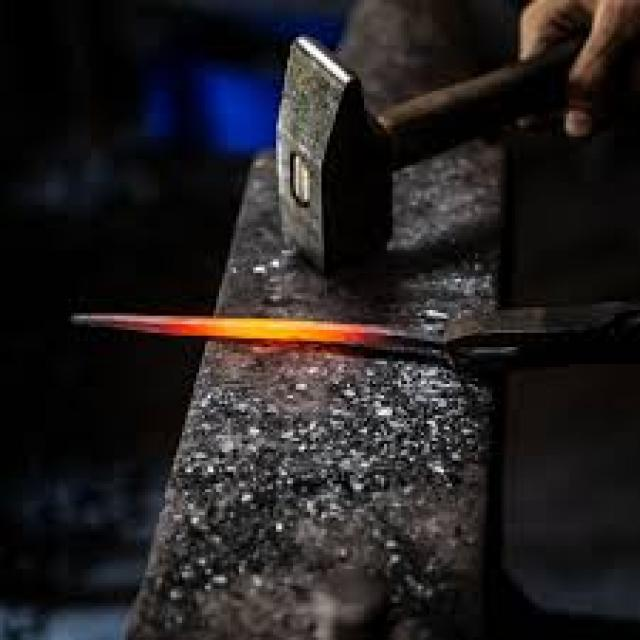hammer: (270, 0, 640, 287)
